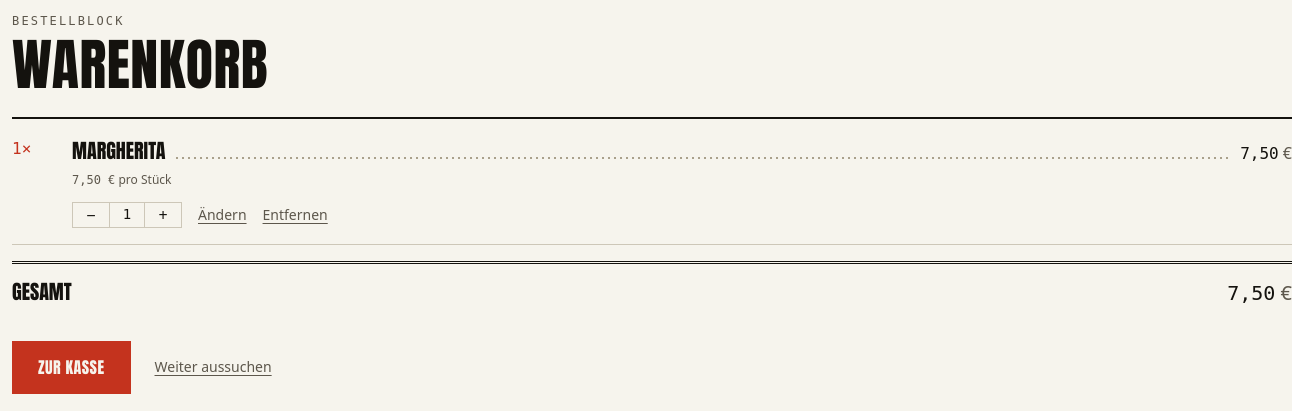
Test: CartPageComponent › increasing quantity updates the item and the total
What coordinates should you click on to do the following:
click the button "+"
I would click on:
 (163, 215)
Its box is [145, 203, 181, 227].
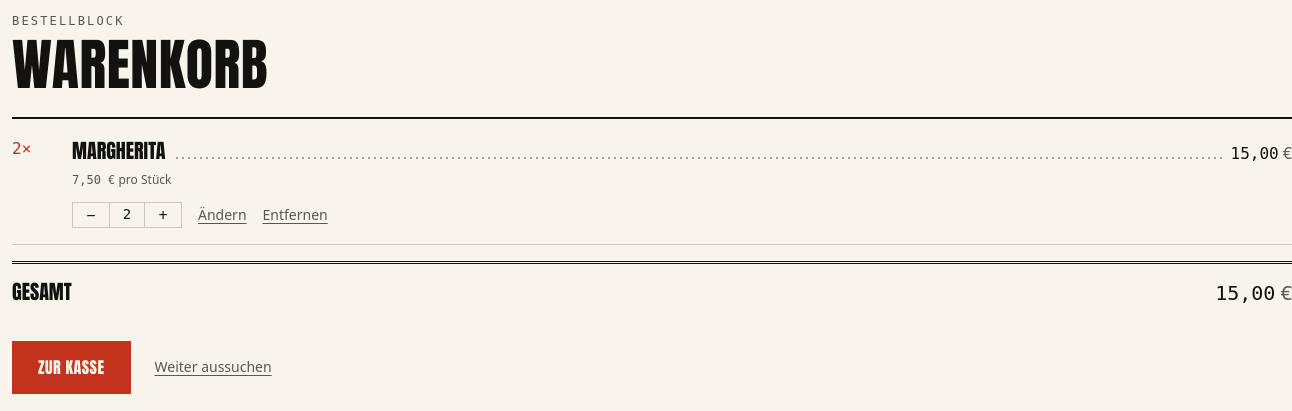
Now the text "15,00" is shown, box [1230, 141, 1291, 167]
